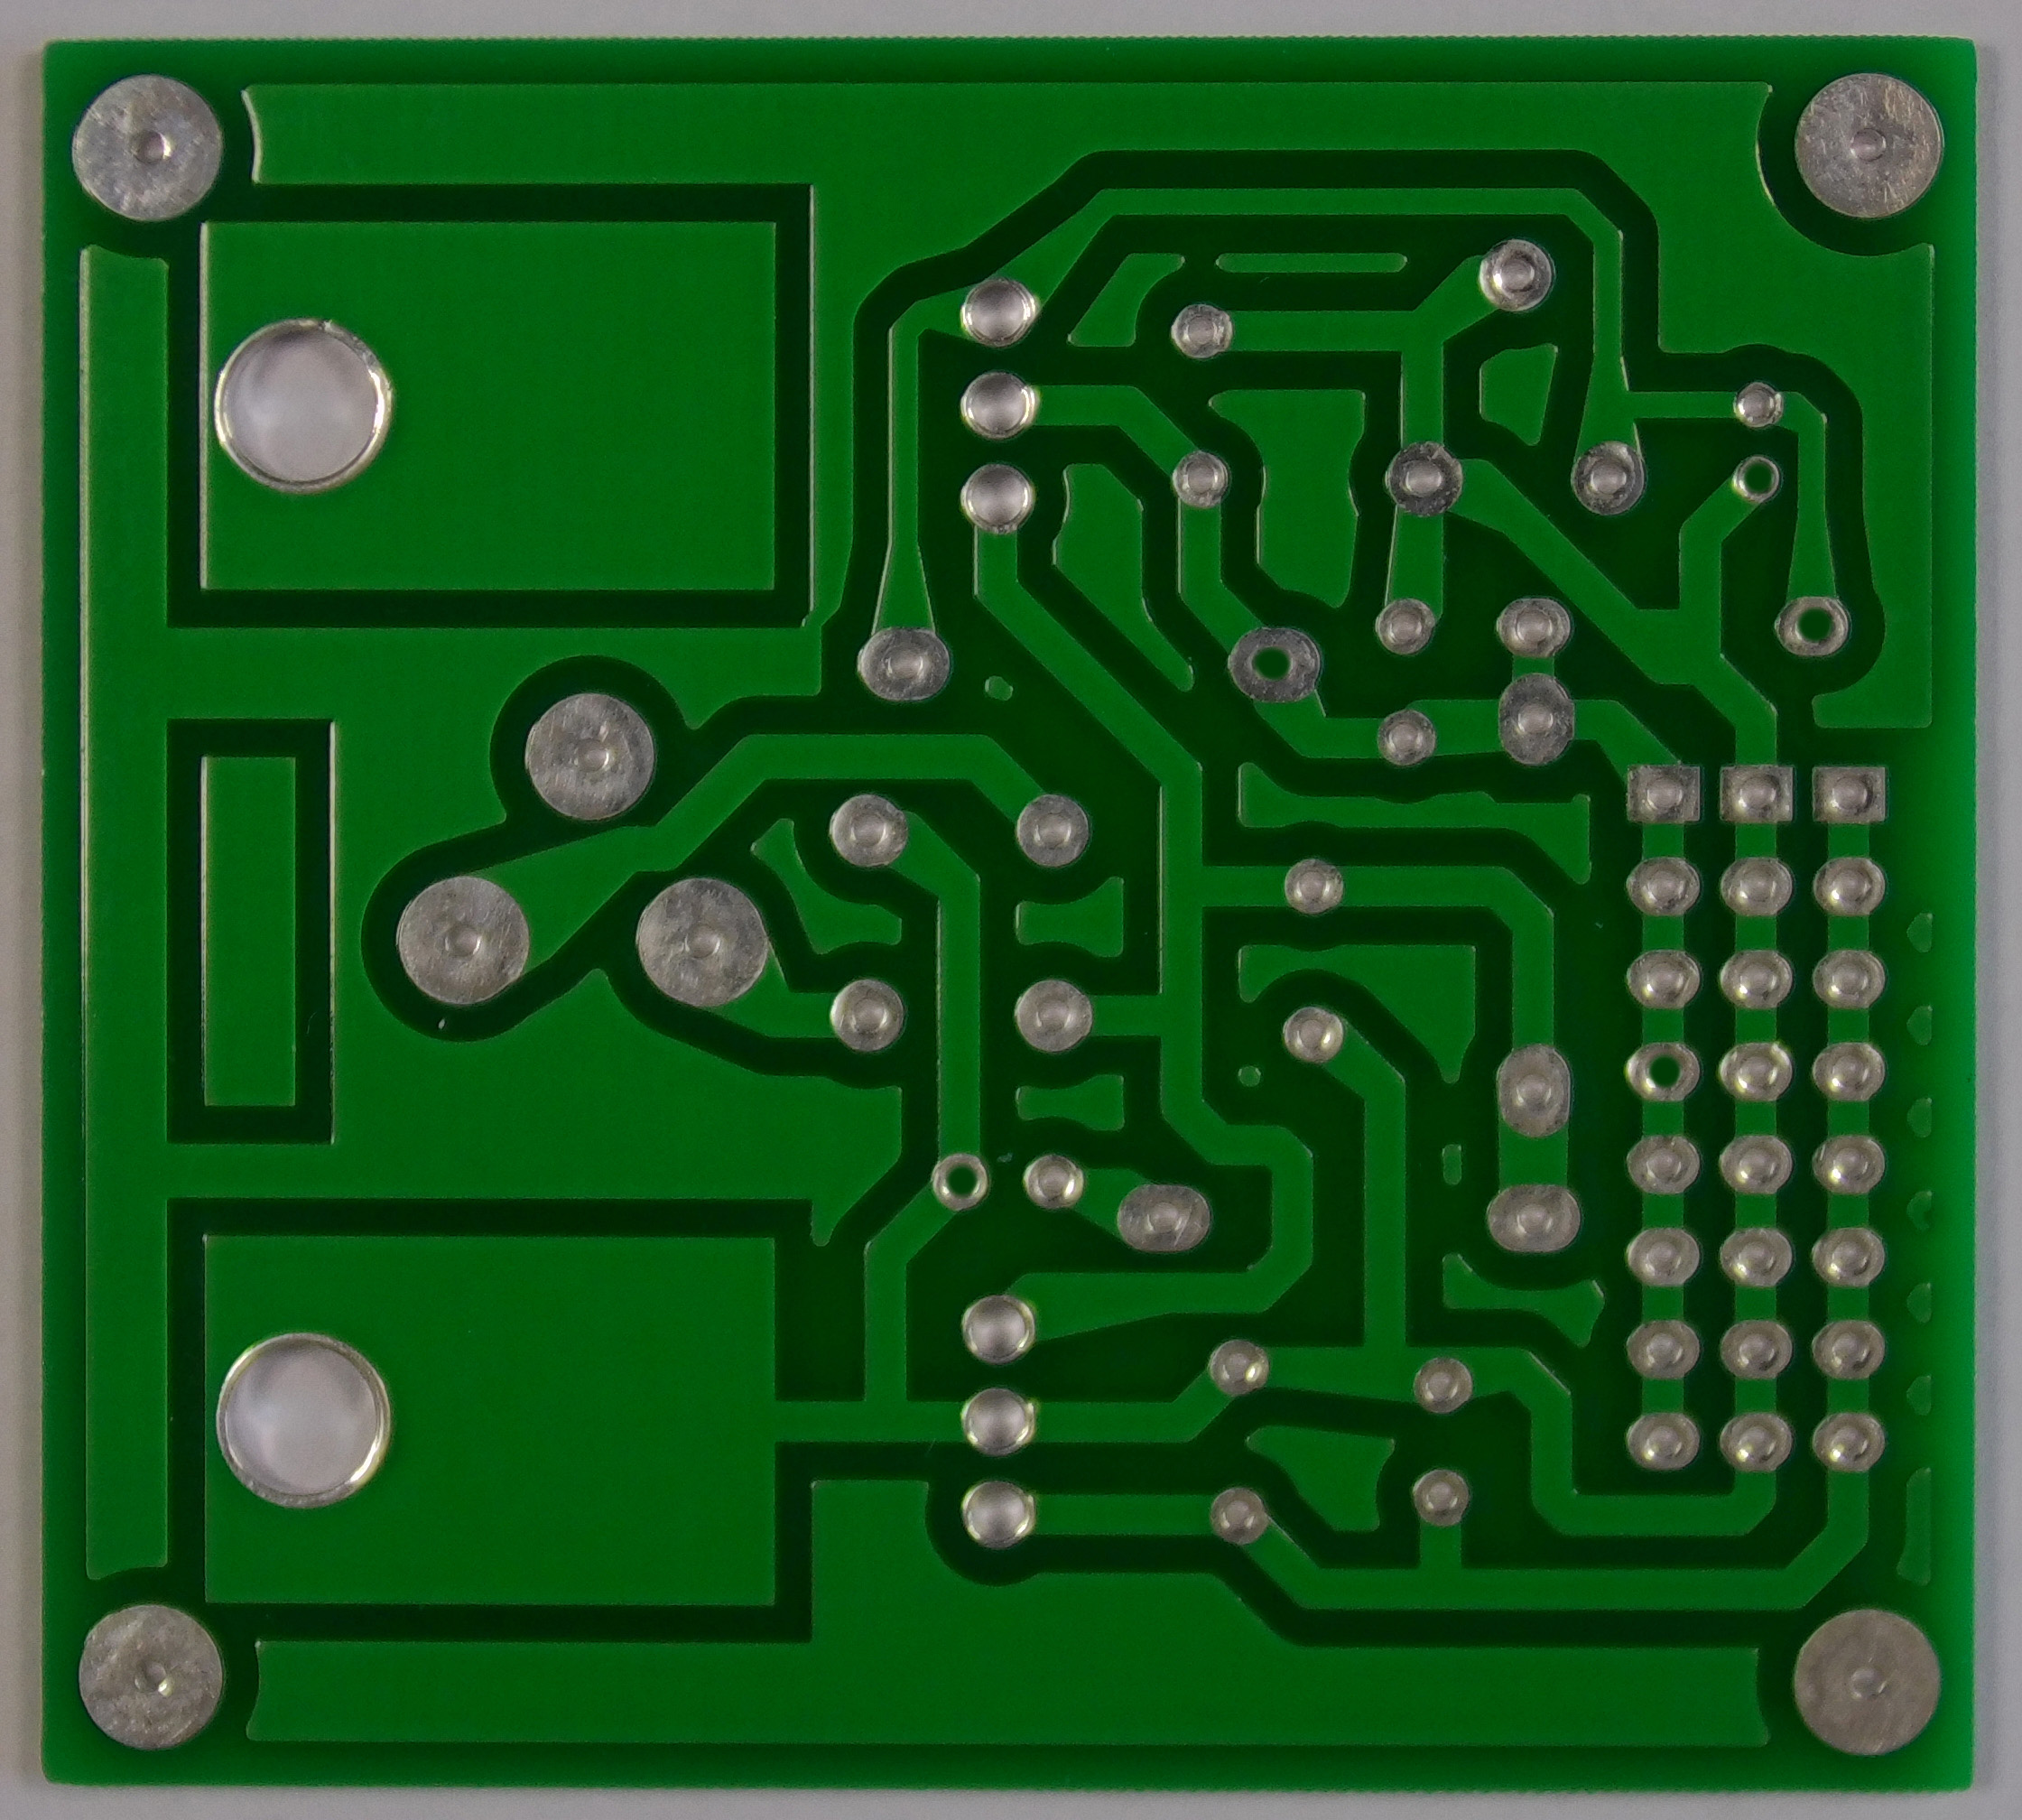missing_hole: (1215, 611, 1335, 712), (1619, 1033, 1707, 1114), (918, 1147, 1003, 1219), (1772, 588, 1853, 656), (1721, 442, 1789, 515)
